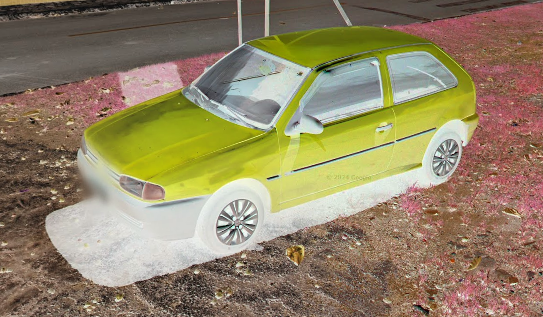car: (76, 23, 482, 255)
